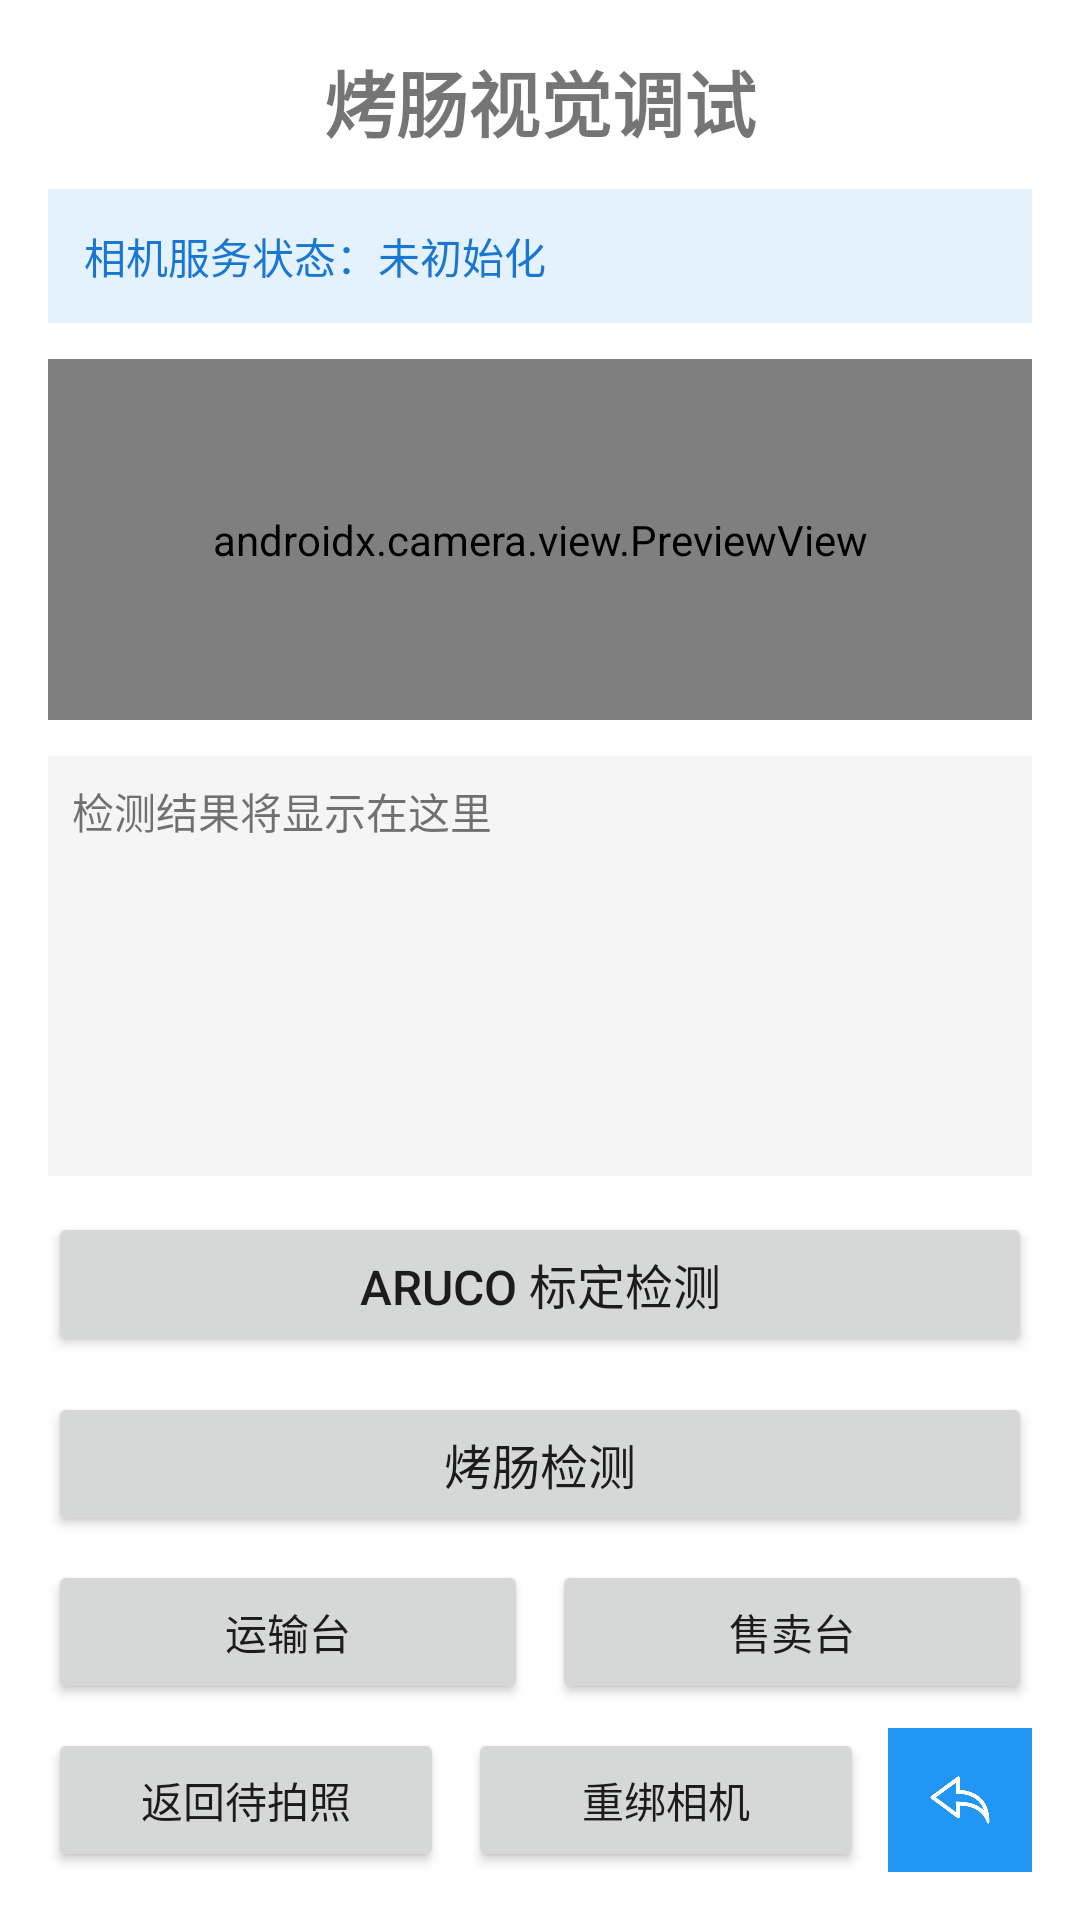

Icons on this 1080x1920 Android screen, each with its box as (x1, y1, x2, y2):
back: (888, 1728, 1032, 1872)
